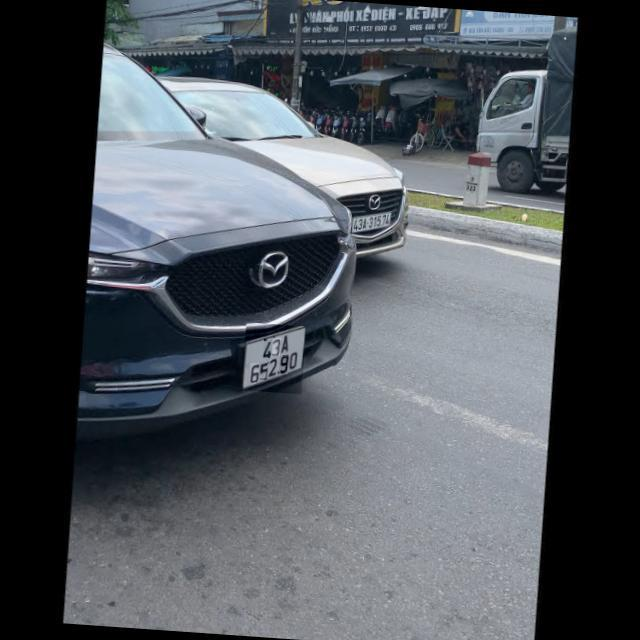car: (72, 47, 356, 440), (132, 64, 414, 267), (469, 21, 574, 206)
plate: (238, 323, 311, 390), (343, 214, 401, 235)
